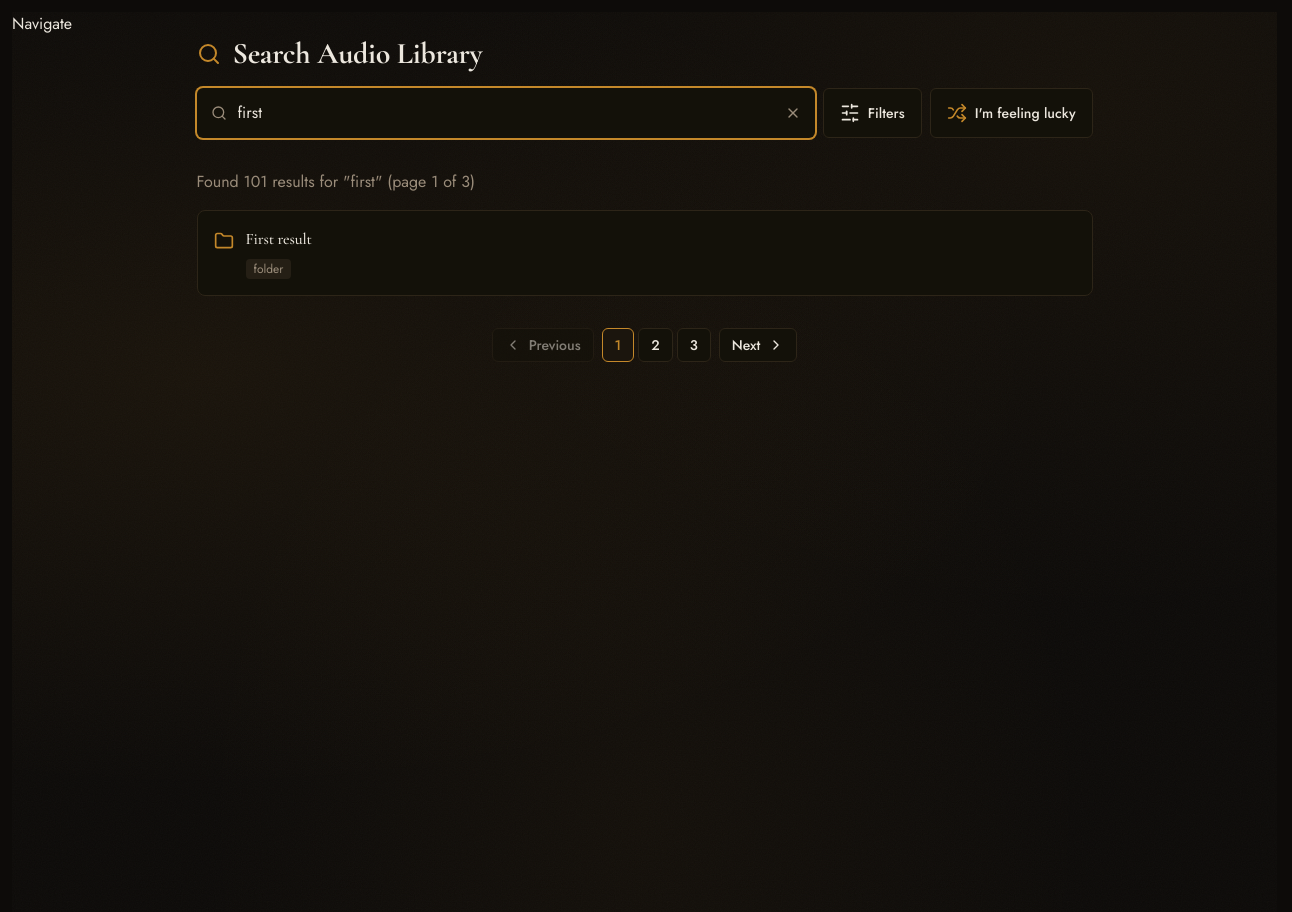
Scenario: debounces typing, cancels stale requests, and clears results for a short query
Expected: the heading "First result" is shown, top-left (246, 227), bottom-right (312, 251)
Replace the text in the field with "rain" at (506, 113), box top-left (196, 88), bottom-right (815, 138)
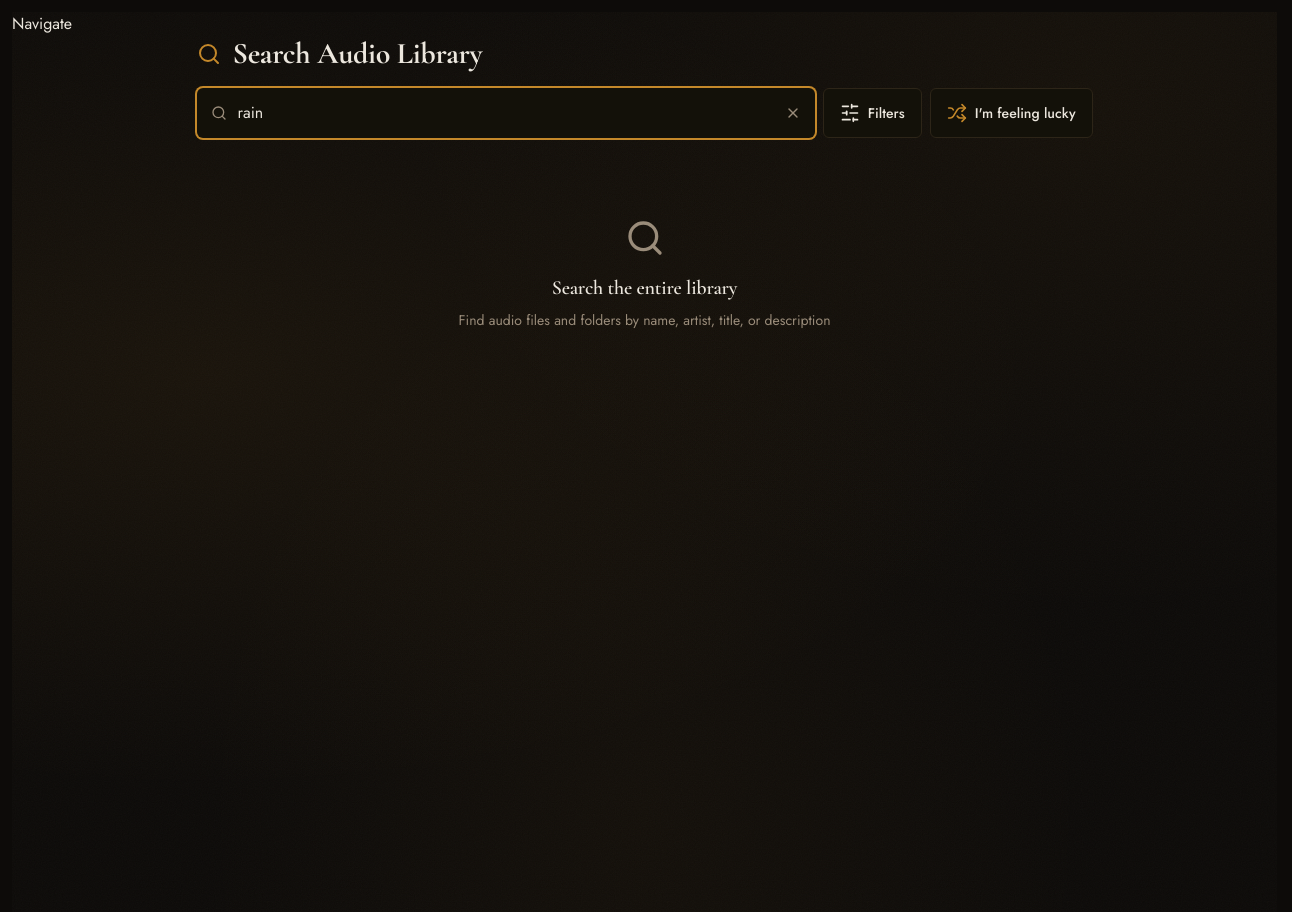
Replace the text in the field with "rainfall" at (506, 113), box top-left (196, 88), bottom-right (815, 138)
Wait 500 ms
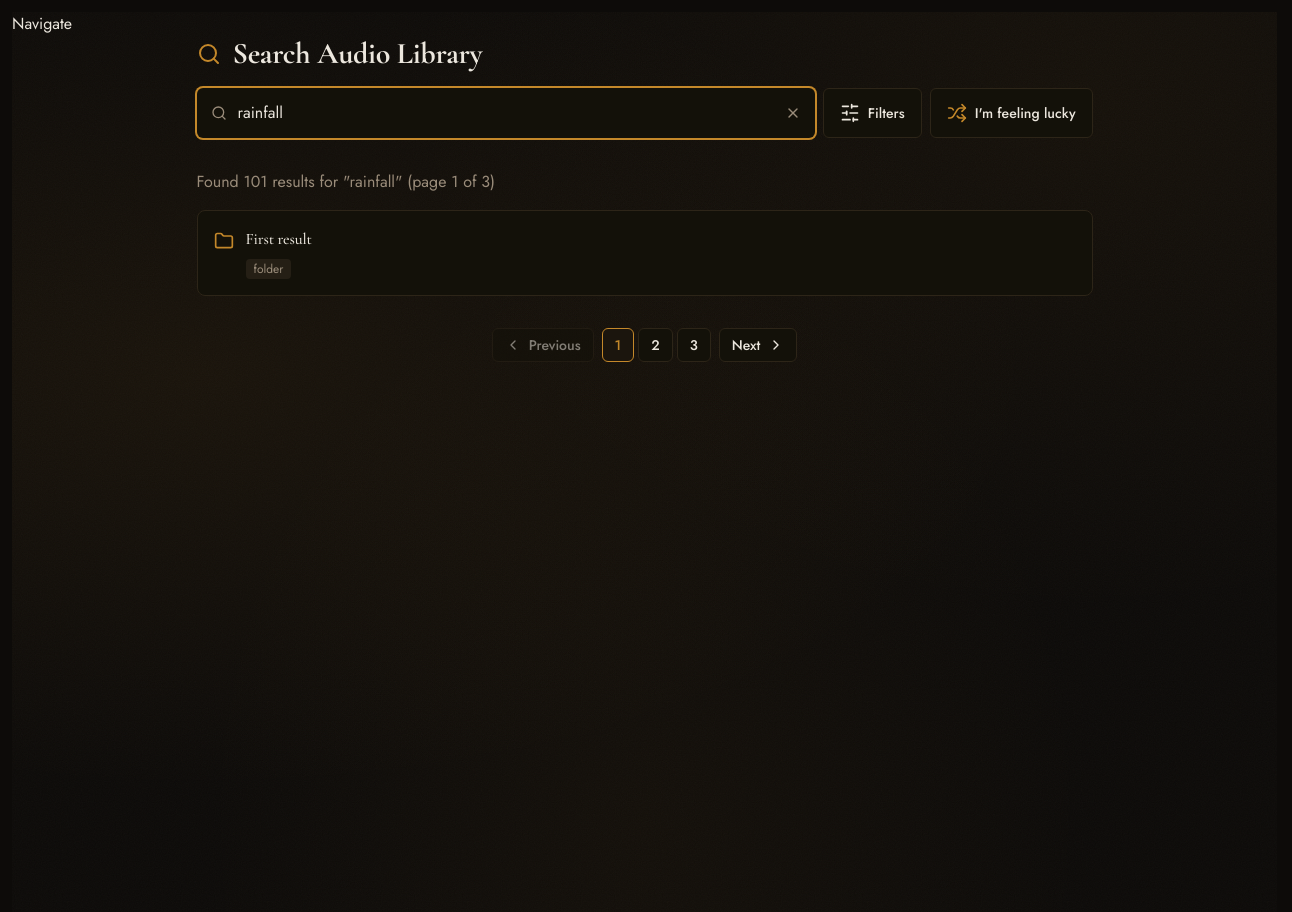
Replace the text in the field with "r" at (506, 113), box top-left (196, 88), bottom-right (815, 138)
Wait 500 ms
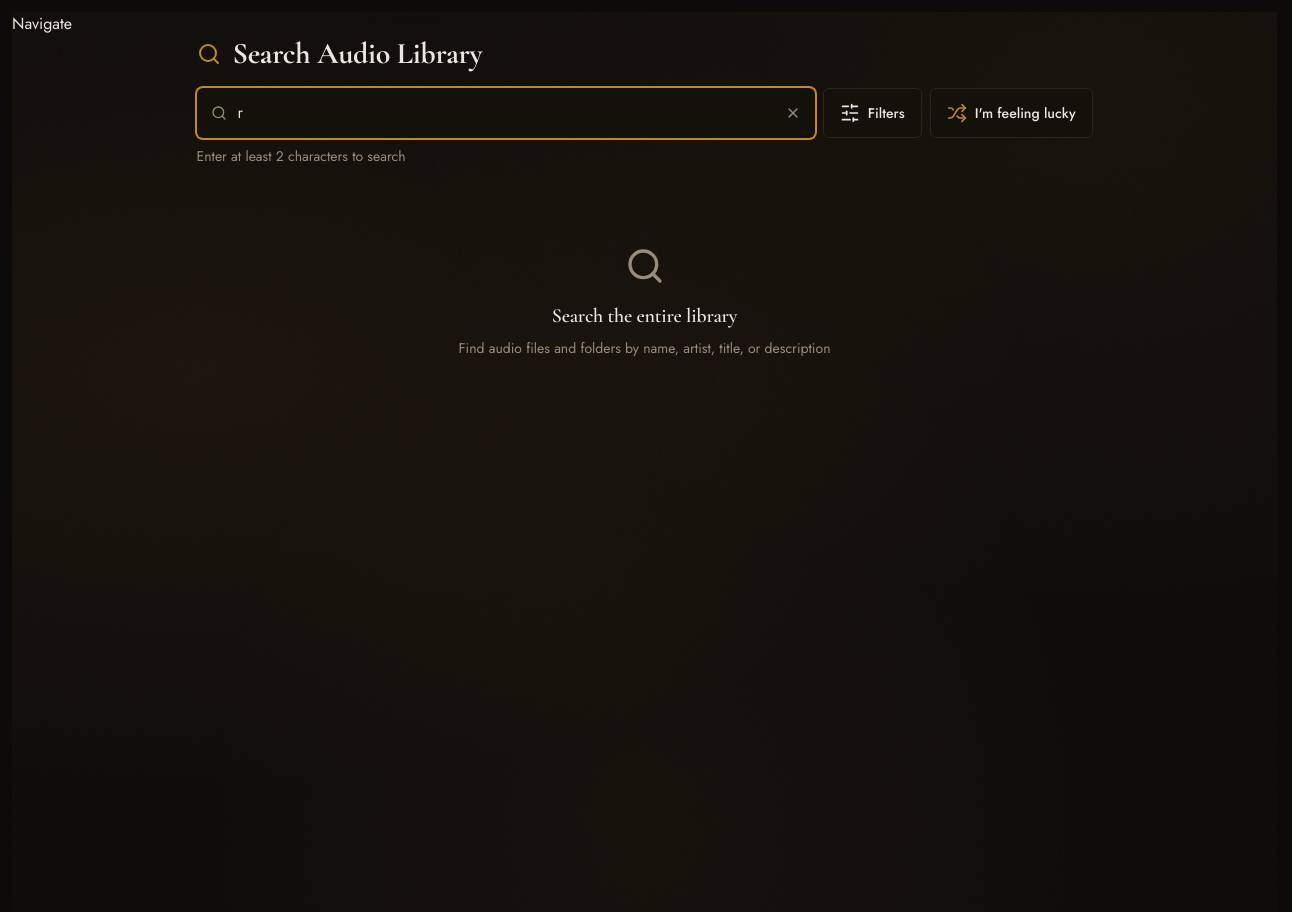
Expected: the link "First result" is gone
